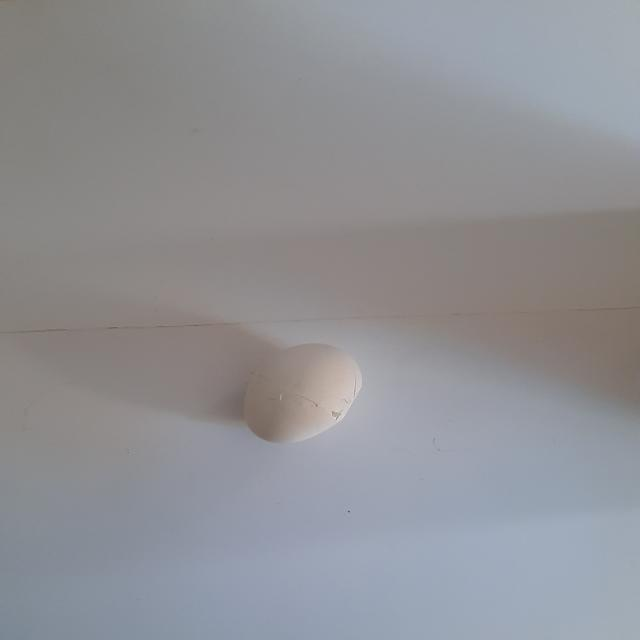egg shell: (227, 332, 372, 456)
